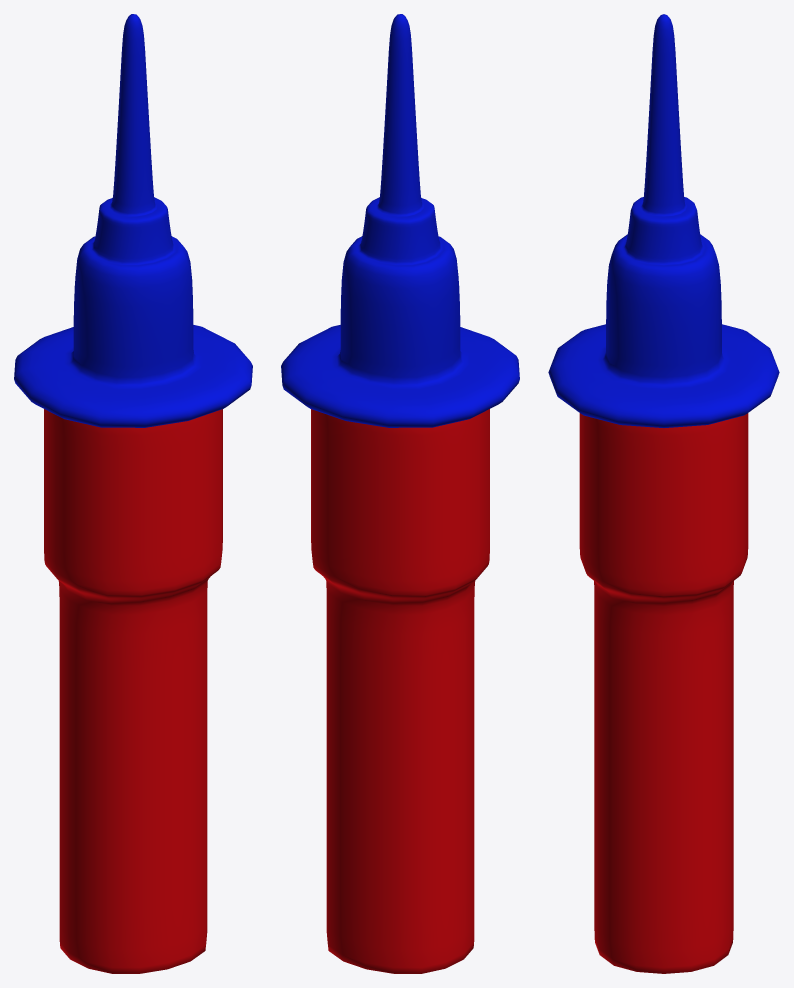
The model's file is Drip.fbx.
3 views of the same model, side by side, from view 1: azimuth 30°, elevation 25°; view 2: azimuth 150°, elevation 25°; view 3: azimuth 270°, elevation 25° (orthographic).
Parts seen in each view (by area): view 1: DripChamber; view 2: DripChamber; view 3: DripChamber.
Part boxes in pixels (box(x1,y1,x2,y2)): DripChamber: box(14, 14, 252, 973); DripChamber: box(281, 14, 519, 973); DripChamber: box(548, 14, 779, 973).
Size of the model in its own units: 0.0272 by 0.1172 by 0.0264.
